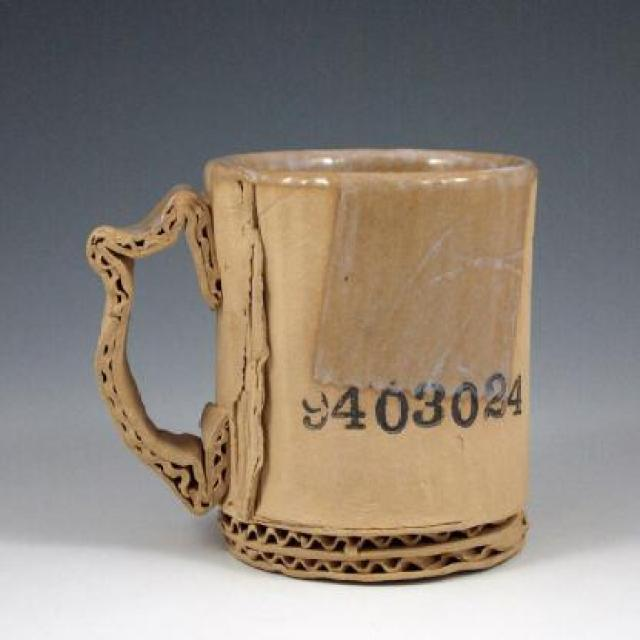box: (87, 126, 550, 601)
